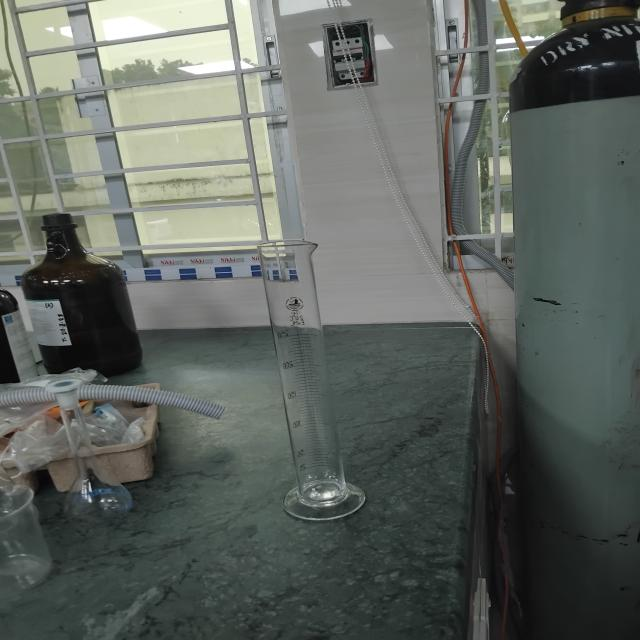Measuring_Cylinder: (219, 171, 384, 542)
